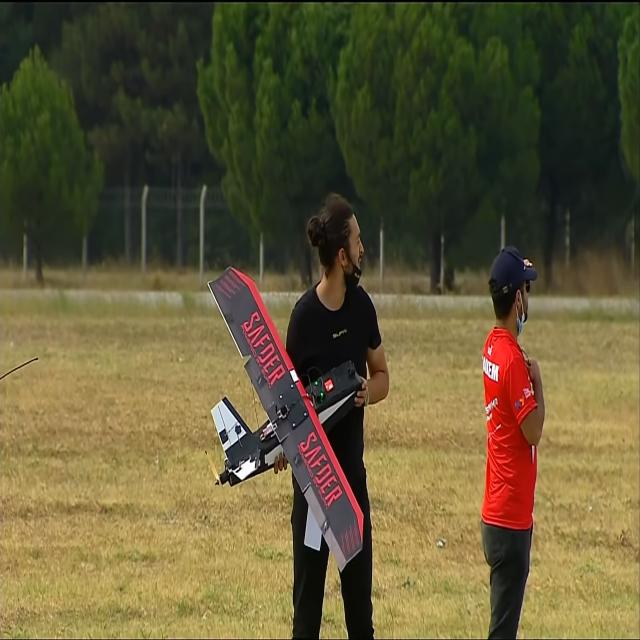iha: (205, 267, 364, 571)
